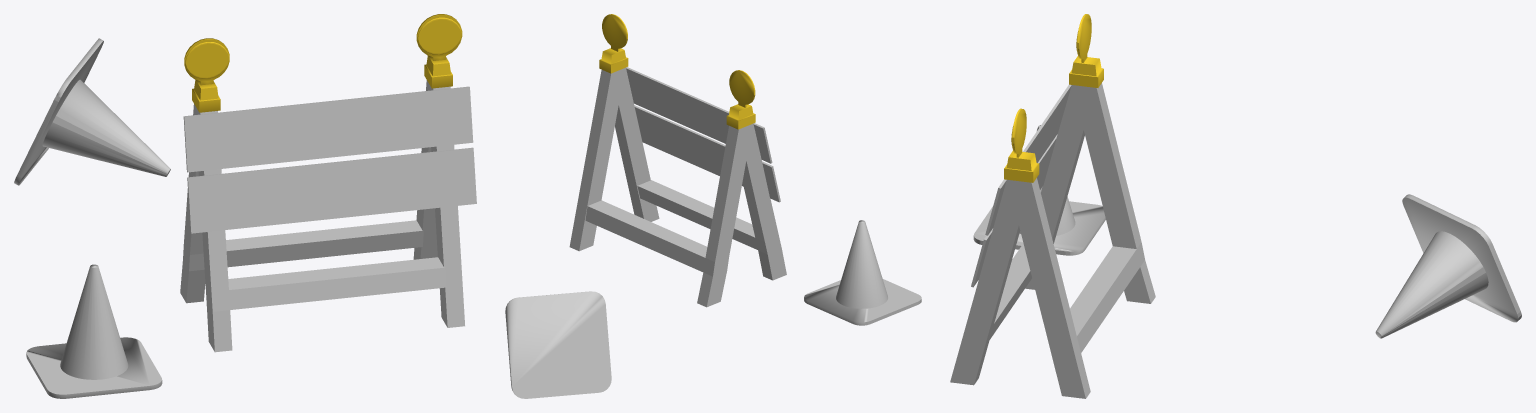
Rendered from ENGEL_OZU.fbx.
3 renders of one model, left to right at view 1: azimuth 30°, elevation 25°; view 2: azimuth 150°, elevation 25°; view 3: azimuth 270°, elevation 25°, orthographic. The views are drawn at different scales.
Visible parts, largest first — view 1: Cube.034, Cube.076, Cube.075, Cube.001; view 2: Cube.034, Cube.076, Cube.075; view 3: Cube.034, Cube.076, Cube.075.
Boxes of the visible parts, x1=… form: Cube.034: x1=26, y1=80, x2=476, y2=398; Cube.076: x1=14, y1=38, x2=170, y2=185; Cube.075: x1=184, y1=14, x2=462, y2=112; Cube.001: x1=186, y1=19, x2=461, y2=77; Cube.034: x1=569, y1=67, x2=921, y2=325; Cube.076: x1=505, y1=291, x2=611, y2=398; Cube.075: x1=599, y1=14, x2=755, y2=129; Cube.034: x1=950, y1=83, x2=1155, y2=398; Cube.076: x1=1375, y1=194, x2=1521, y2=338; Cube.075: x1=1004, y1=14, x2=1103, y2=182.
Size of the model in its own units: 225 by 145 by 273.
